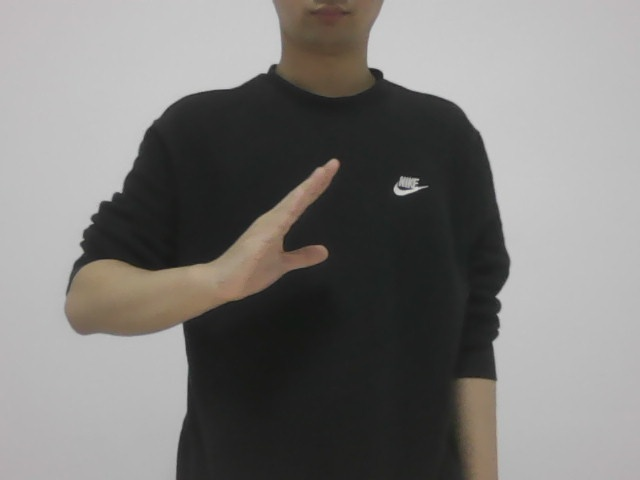morning: (220, 160, 349, 309)
